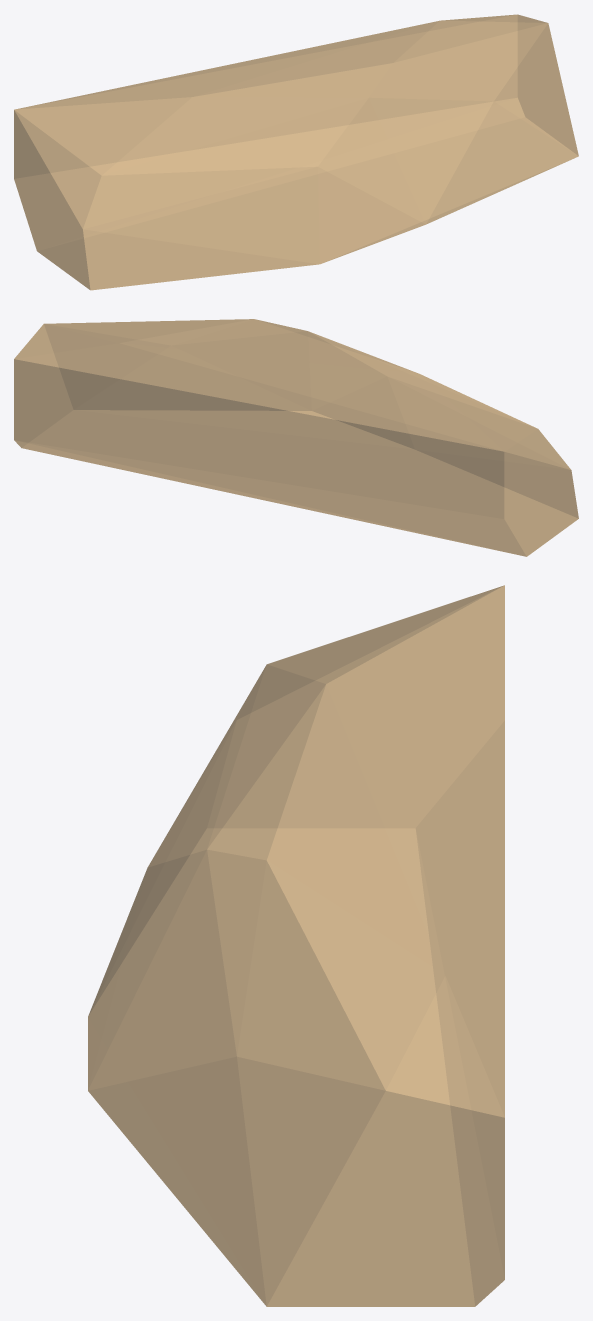
The picture shows the model from 3 angles, top to bottom: view 1: azimuth 30°, elevation 25°; view 2: azimuth 150°, elevation 25°; view 3: azimuth 270°, elevation 25°; orthographic projection. The views are drawn at different scales.
Parts seen in each view (by area): view 1: Shape_IndexedFaceSet.089_Shape_IndexedFaceSet.7840; view 2: Shape_IndexedFaceSet.089_Shape_IndexedFaceSet.7840; view 3: Shape_IndexedFaceSet.089_Shape_IndexedFaceSet.7840.
Part boxes in pixels (x1,y1,x2,y2): Shape_IndexedFaceSet.089_Shape_IndexedFaceSet.7840: (14, 14, 578, 290); Shape_IndexedFaceSet.089_Shape_IndexedFaceSet.7840: (14, 319, 578, 556); Shape_IndexedFaceSet.089_Shape_IndexedFaceSet.7840: (88, 585, 504, 1306).
Size of the model in its own units: 0.0519 by 0.0137 by 0.0191.
